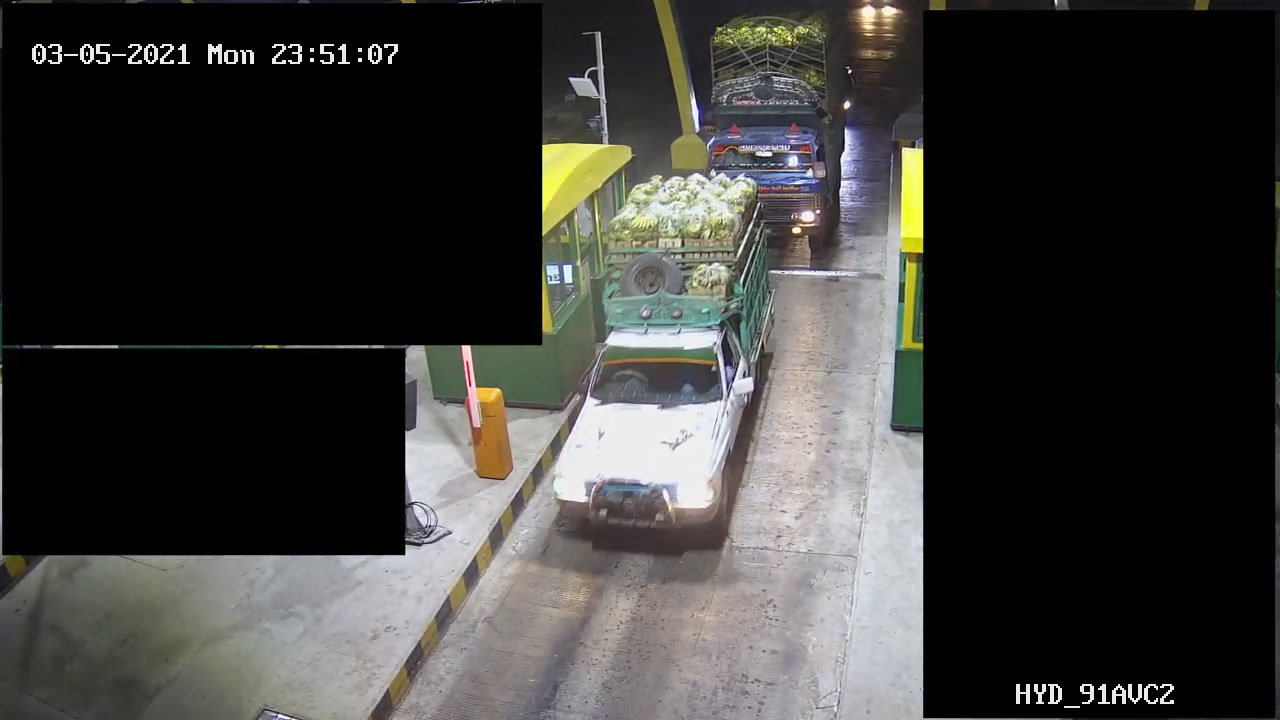F2: (553, 173, 774, 543)
